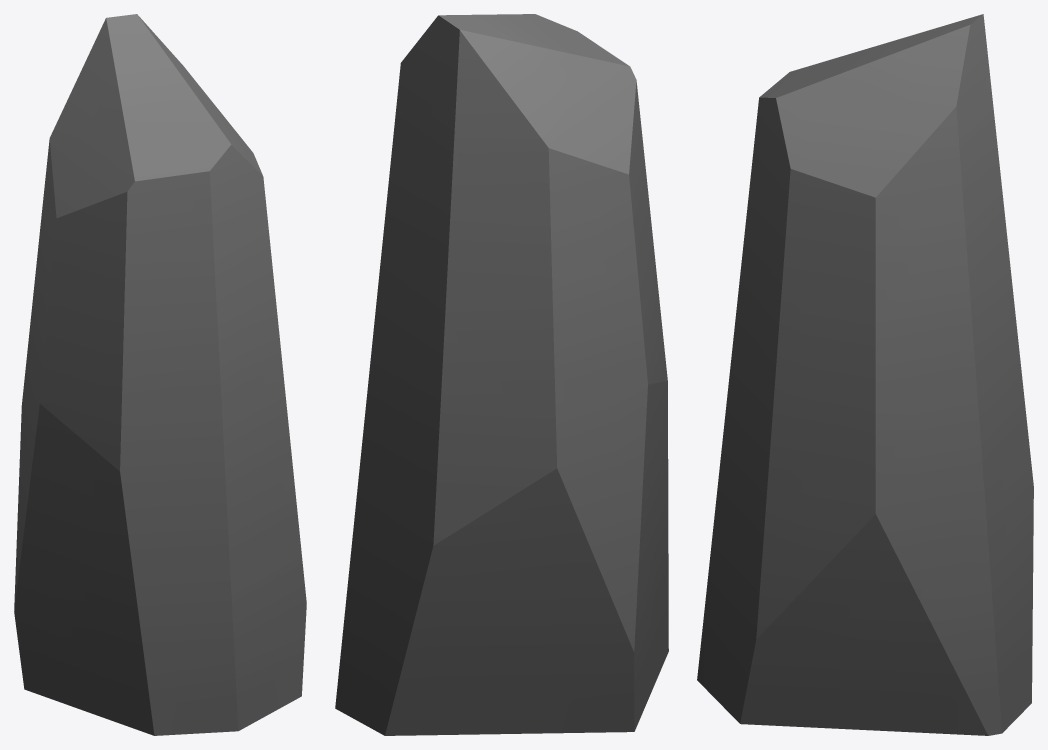
File: SmallRock_05.fbx
The picture shows the model from 3 angles, left to right: view 1: azimuth 30°, elevation 25°; view 2: azimuth 150°, elevation 25°; view 3: azimuth 270°, elevation 25°; orthographic projection. The views are drawn at different scales.
Visible parts, largest first — view 1: small_rock_04; view 2: small_rock_04; view 3: small_rock_04.
Part boxes in pixels (x1,y1,x2,y2): small_rock_04: [14, 14, 306, 735]; small_rock_04: [335, 14, 668, 735]; small_rock_04: [697, 14, 1033, 735].
Size of the model in its own units: 101 by 241 by 110.
1 material, 1 textured.
